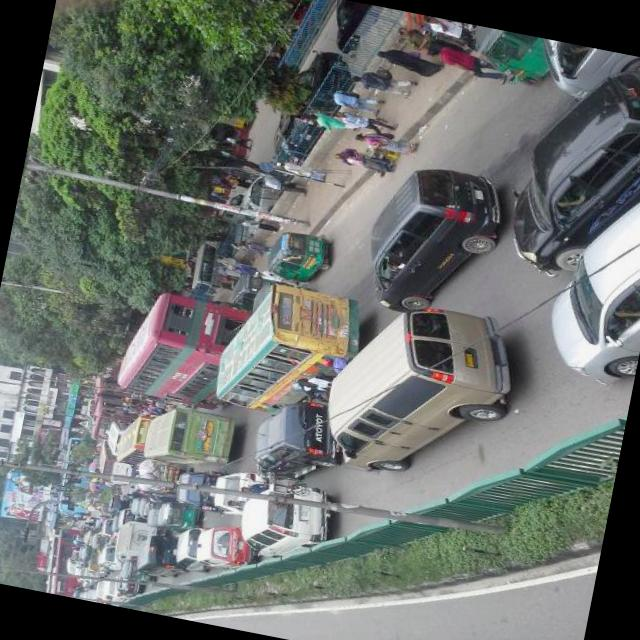bus: (115, 290, 230, 408), (262, 282, 362, 359), (141, 403, 233, 469), (148, 288, 238, 352), (162, 407, 234, 463), (54, 433, 100, 517), (50, 528, 86, 597), (88, 376, 120, 437), (115, 416, 143, 464), (98, 457, 136, 485), (93, 439, 119, 477), (42, 533, 59, 591), (105, 417, 121, 452), (133, 414, 149, 448)
car: (381, 158, 503, 308), (505, 123, 598, 270), (545, 107, 616, 249), (272, 40, 350, 149), (356, 204, 435, 308), (261, 400, 344, 468), (594, 67, 640, 176), (325, 0, 373, 59), (211, 466, 264, 516), (173, 462, 224, 513), (236, 168, 275, 232), (170, 520, 214, 573), (266, 128, 302, 166), (113, 570, 144, 596), (105, 491, 128, 512), (101, 514, 120, 536), (95, 578, 112, 598), (85, 396, 94, 414)
motorcycle: (464, 26, 552, 87), (270, 227, 334, 286), (226, 270, 262, 308), (156, 497, 198, 529), (292, 372, 330, 403), (119, 558, 160, 582), (137, 491, 159, 517), (146, 504, 165, 526), (126, 494, 140, 512), (100, 502, 113, 512)
truck: (386, 297, 518, 418), (354, 328, 444, 470), (537, 39, 640, 111), (407, 373, 499, 429), (252, 484, 334, 546), (238, 498, 296, 556), (208, 186, 254, 255), (192, 518, 255, 568), (133, 530, 192, 578), (192, 233, 228, 294), (119, 518, 153, 556), (150, 462, 180, 492), (98, 544, 124, 568), (89, 552, 110, 572), (62, 556, 80, 574)
